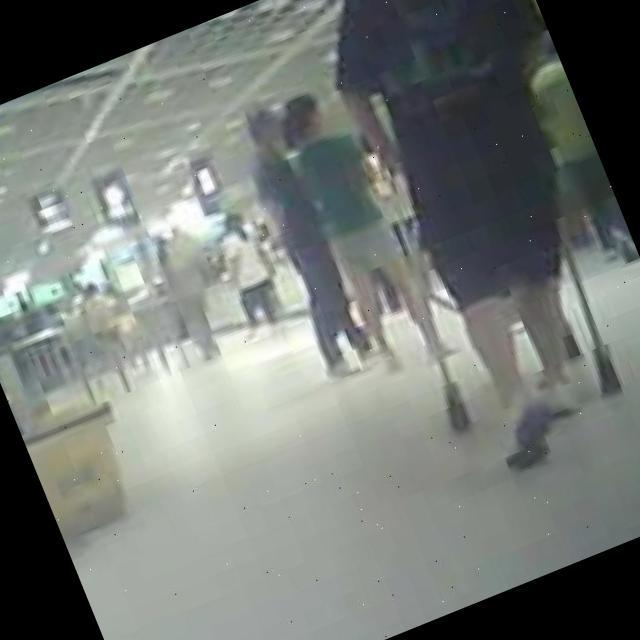person: (291, 0, 640, 485), (266, 79, 448, 372), (224, 104, 382, 386), (508, 44, 638, 270), (145, 218, 241, 366), (202, 210, 292, 342), (71, 273, 152, 397), (40, 287, 112, 404)
